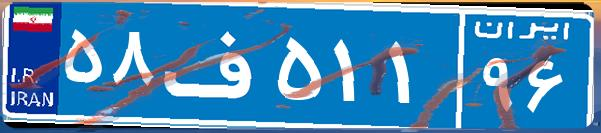1: (385, 28, 445, 110), (330, 28, 385, 110)
5: (273, 28, 330, 110), (57, 26, 110, 107)
6: (525, 38, 570, 115)
8: (110, 28, 158, 105)
9: (475, 38, 525, 113)
ف: (158, 15, 273, 115)
